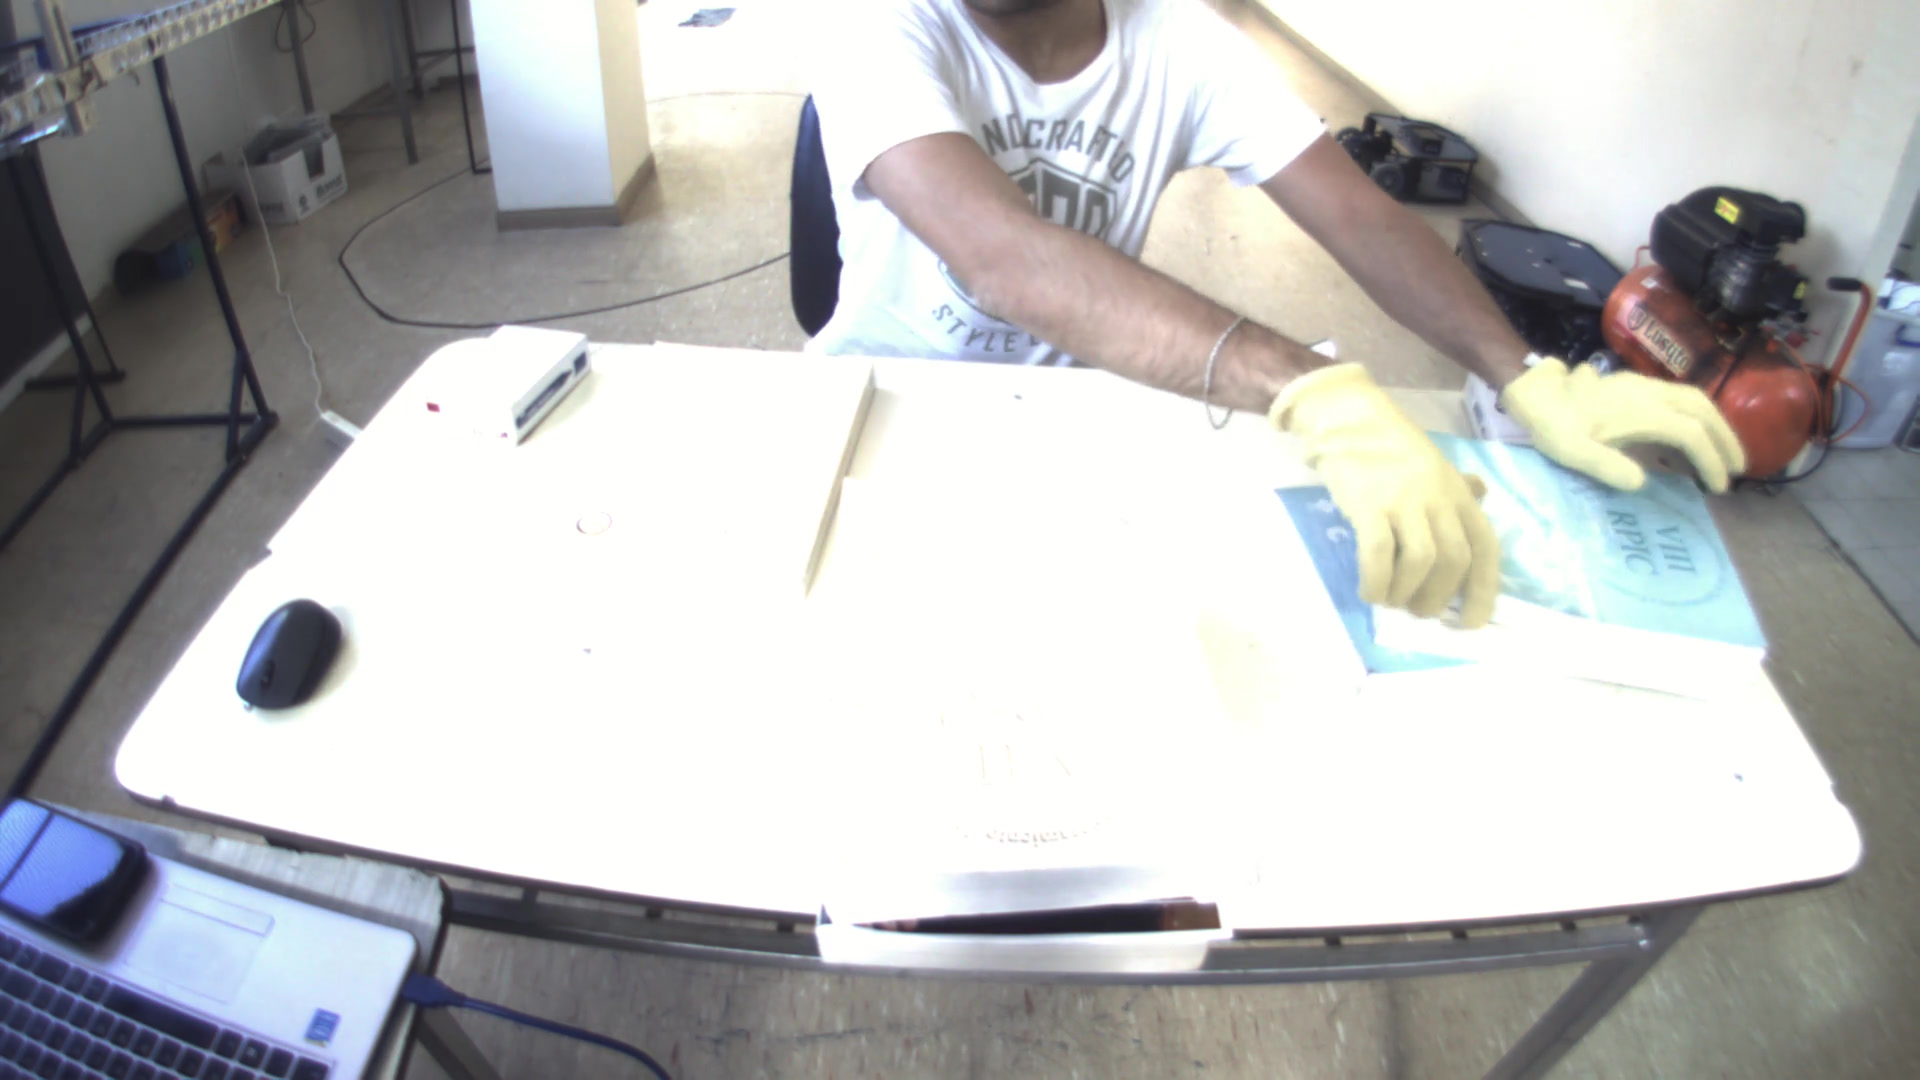hand: (1269, 353, 1520, 628), (1495, 347, 1755, 491)
